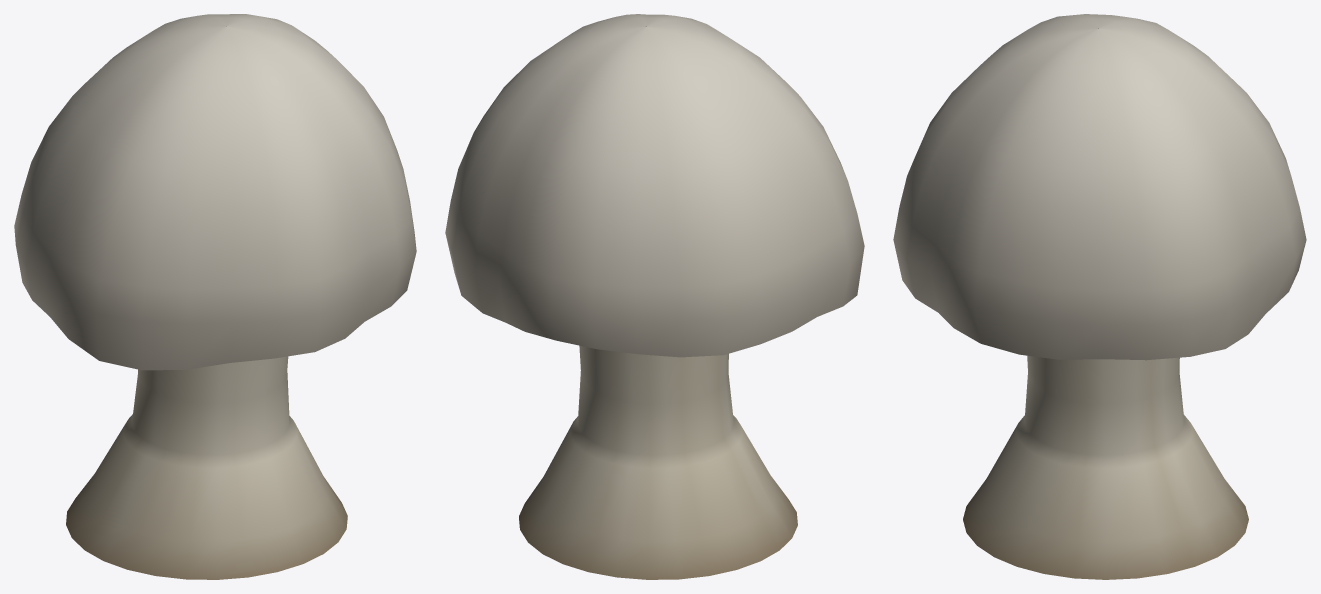
The model's file is mushroom-giant-glow-b.glb.
3 views of the same model, side by side, from view 1: azimuth 30°, elevation 25°; view 2: azimuth 150°, elevation 25°; view 3: azimuth 270°, elevation 25° (orthographic). The views are drawn at different scales.
Parts seen in each view (by area): view 1: mushroom-giant-glow-b; view 2: mushroom-giant-glow-b; view 3: mushroom-giant-glow-b.
Part boxes in pixels (x1,y1,x2,y2): mushroom-giant-glow-b: [14, 14, 416, 579]; mushroom-giant-glow-b: [445, 14, 864, 579]; mushroom-giant-glow-b: [893, 14, 1306, 579].
Bounding box in the file's own units: 0.9326 × 1.25 × 0.9389.
